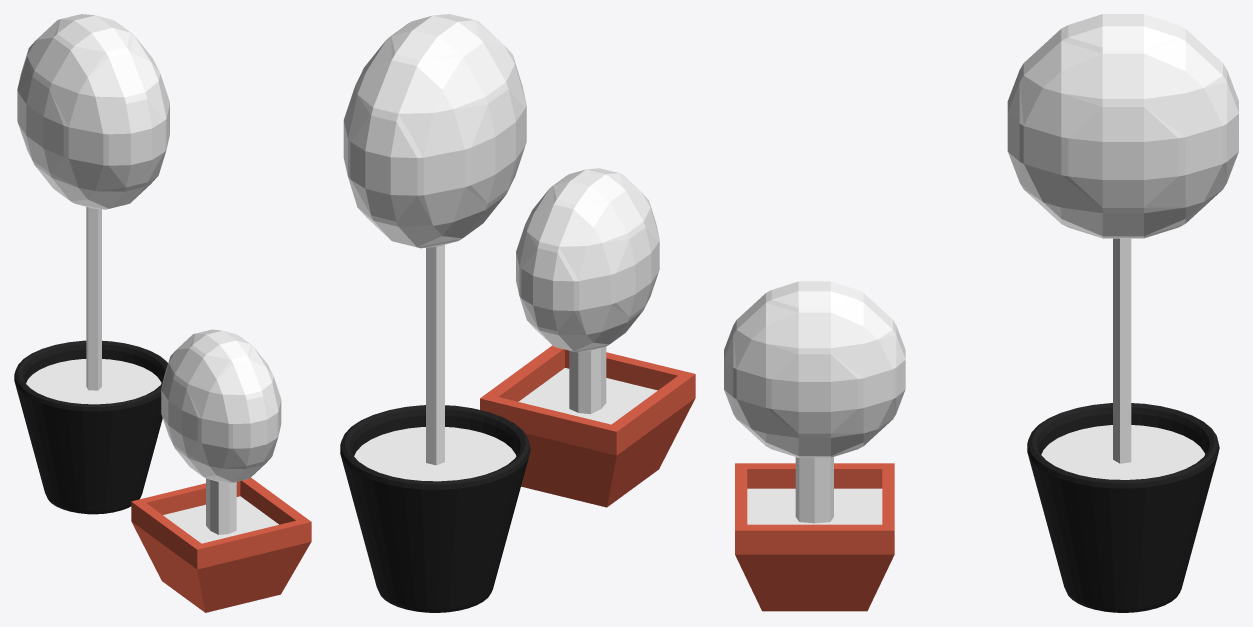
The model's file is plants.gltf.
The picture shows the model from 3 angles, left to right: view 1: azimuth 30°, elevation 25°; view 2: azimuth 150°, elevation 25°; view 3: azimuth 270°, elevation 25°; orthographic projection. The views are drawn at different scales.
Visible parts, largest first — view 1: Mball.000, Cylinder, Cube.001, Mball.001, Cylinder.001, Cube; view 2: Mball.000, Cylinder, Mball.001, Cube.001, Cylinder.001, Cube; view 3: Mball.000, Cylinder, Mball.001, Cube.001, Cylinder.001, Cube.
Part boxes in pixels (x1,y1,x2,y2): Mball.000: (17,14,169,209); Cylinder: (14,340,167,514); Cube.001: (131,478,311,612); Mball.001: (161,329,281,483); Cylinder.001: (86,207,101,390); Cube: (206,478,236,534); Mball.000: (343,14,526,248); Cylinder: (340,405,530,612); Mball.001: (516,168,659,352); Cube.001: (480,345,695,507); Cylinder.001: (426,245,444,465); Cube: (569,346,606,414); Mball.000: (1007,14,1238,238); Cylinder: (1027,403,1219,612); Mball.001: (724,281,905,457); Cube.001: (735,463,894,611); Cylinder.001: (1113,238,1131,463); Cube: (795,457,833,523).
Size of the model in its own units: 0.4231 by 1.38 by 1.13.
